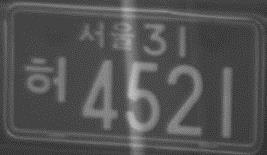1: (216, 65, 237, 140), (176, 23, 190, 59)
2: (166, 64, 204, 138)
3: (141, 20, 167, 56)
4: (80, 58, 119, 130)
5: (123, 61, 161, 132)
서울_O: (80, 19, 135, 52)
허: (25, 54, 68, 102)
